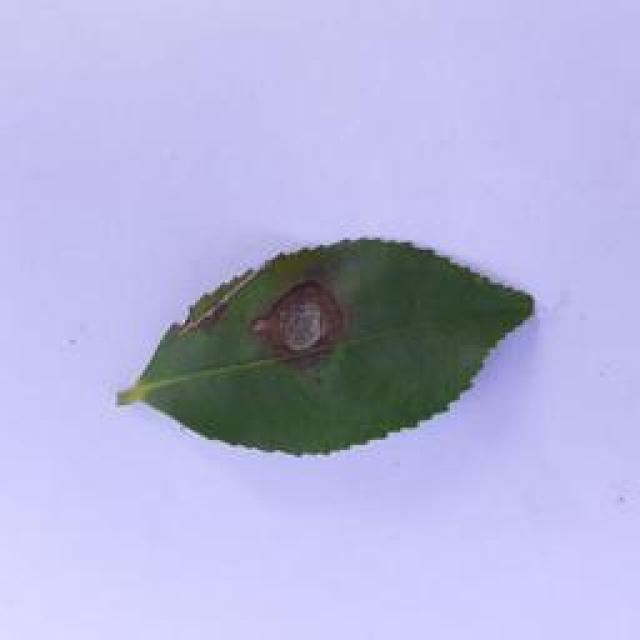Gray Blight: (100, 224, 538, 462)
